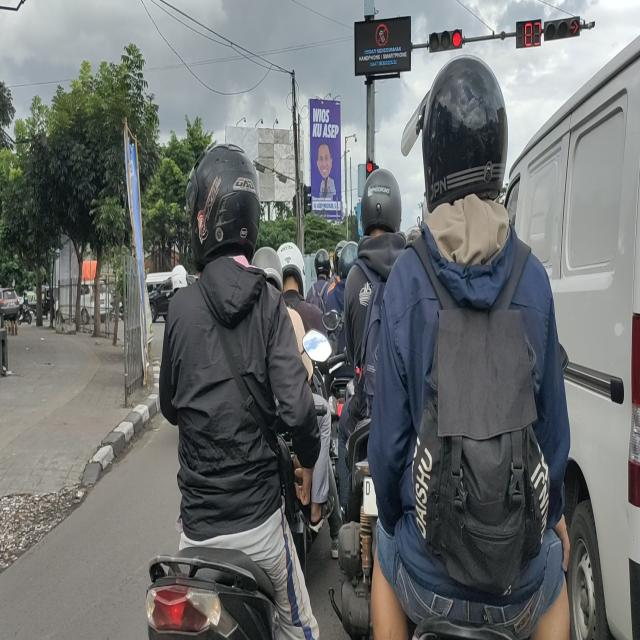helmet: (423, 54, 508, 205), (197, 149, 260, 252), (362, 170, 405, 243), (279, 247, 308, 295), (334, 240, 358, 280), (315, 249, 331, 280)
